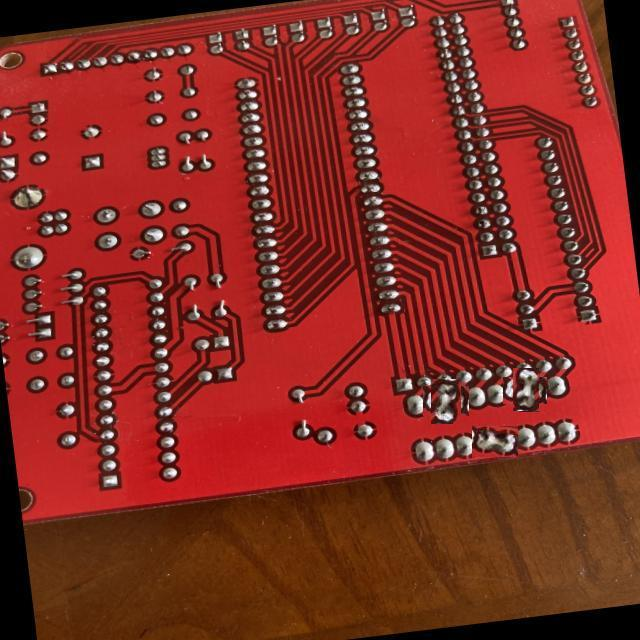damged: (427, 382, 465, 420), (472, 426, 518, 457), (508, 373, 543, 408)
